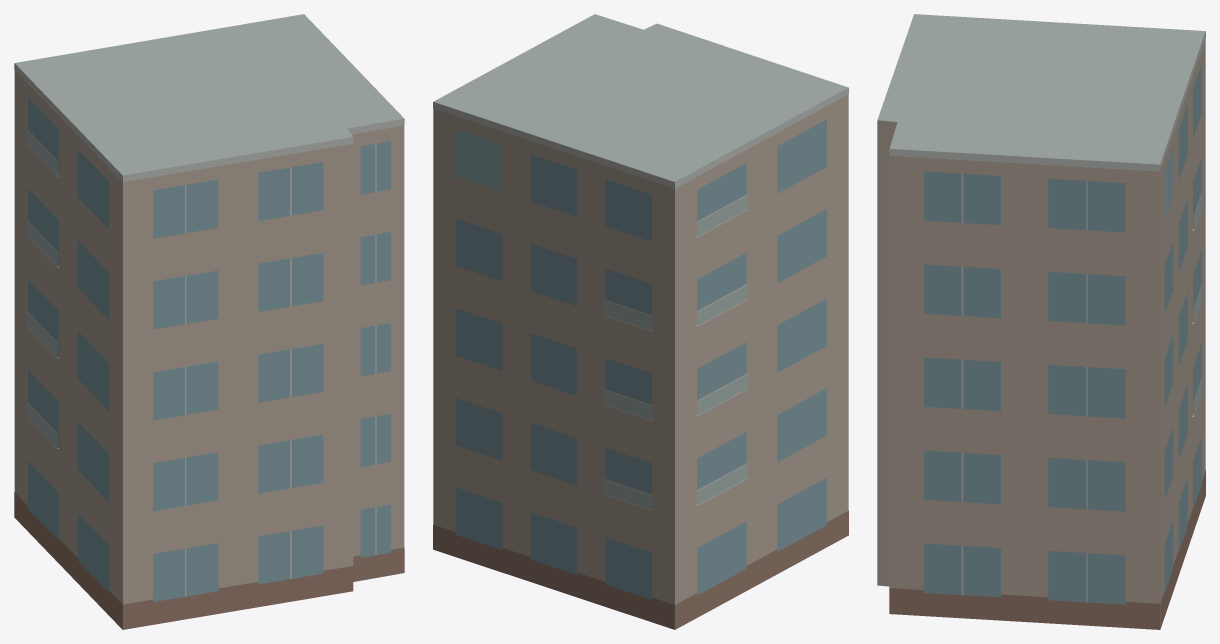
File: survey-upis-32523994.glb
3 renders of one model, left to right at view 1: azimuth 30°, elevation 25°; view 2: azimuth 150°, elevation 25°; view 3: azimuth 270°, elevation 25°, orthographic. The views are drawn at different scales.
Visible parts, largest first — view 1: survey-upis-32523994.tmp; view 2: survey-upis-32523994.tmp; view 3: survey-upis-32523994.tmp.
Part boxes in pixels (<box>): survey-upis-32523994.tmp: <box>14,14,404,629</box>; survey-upis-32523994.tmp: <box>433,14,848,629</box>; survey-upis-32523994.tmp: <box>877,14,1205,629</box>.
Bounding box in the file's own units: 11.3 × 16.25 × 10.41.
